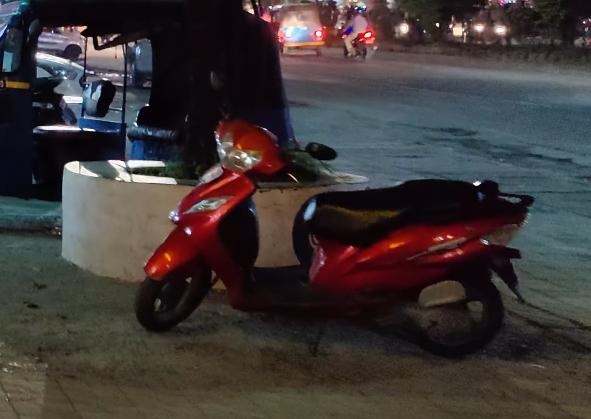scooter: (130, 94, 536, 356)
